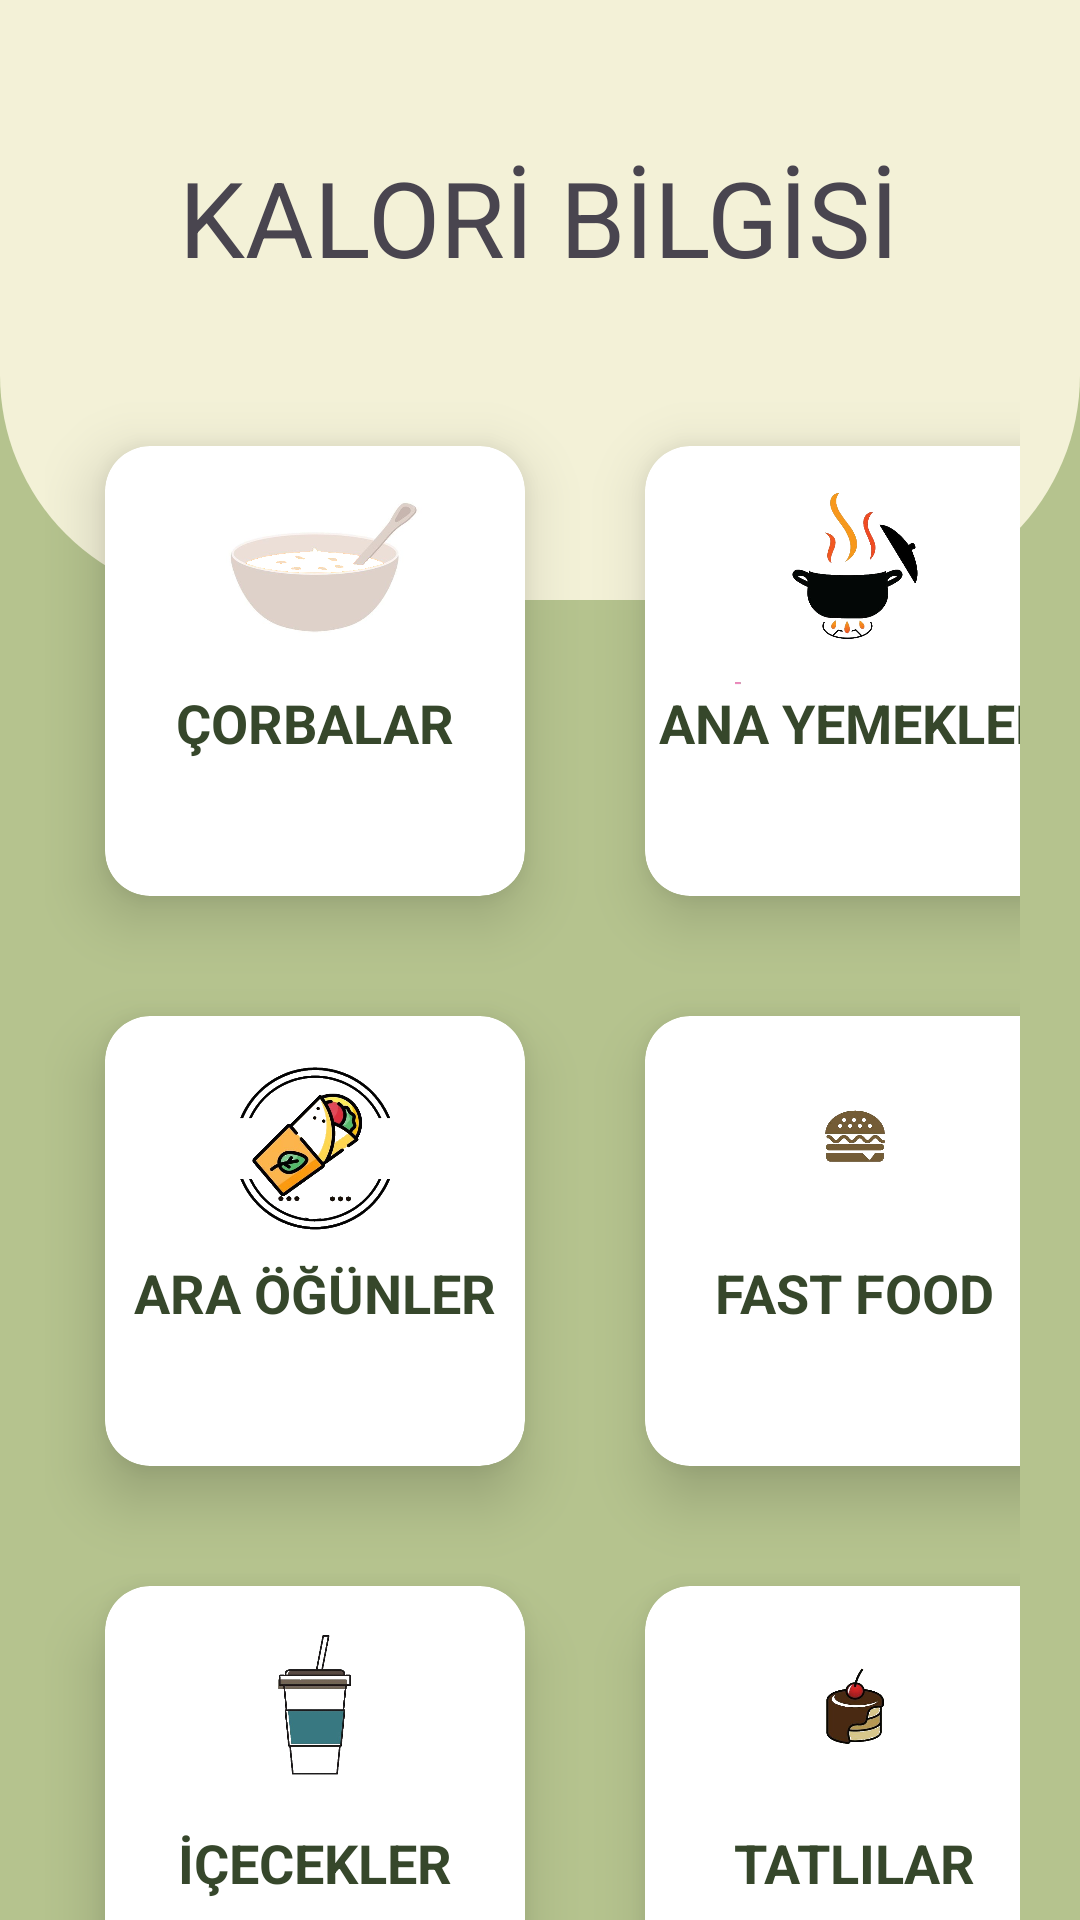

Icons on this 1080 x 1920 Android screen, each with the point to tap as (x,y):
arasicak: (315,1148)
drink: (314,1705)
